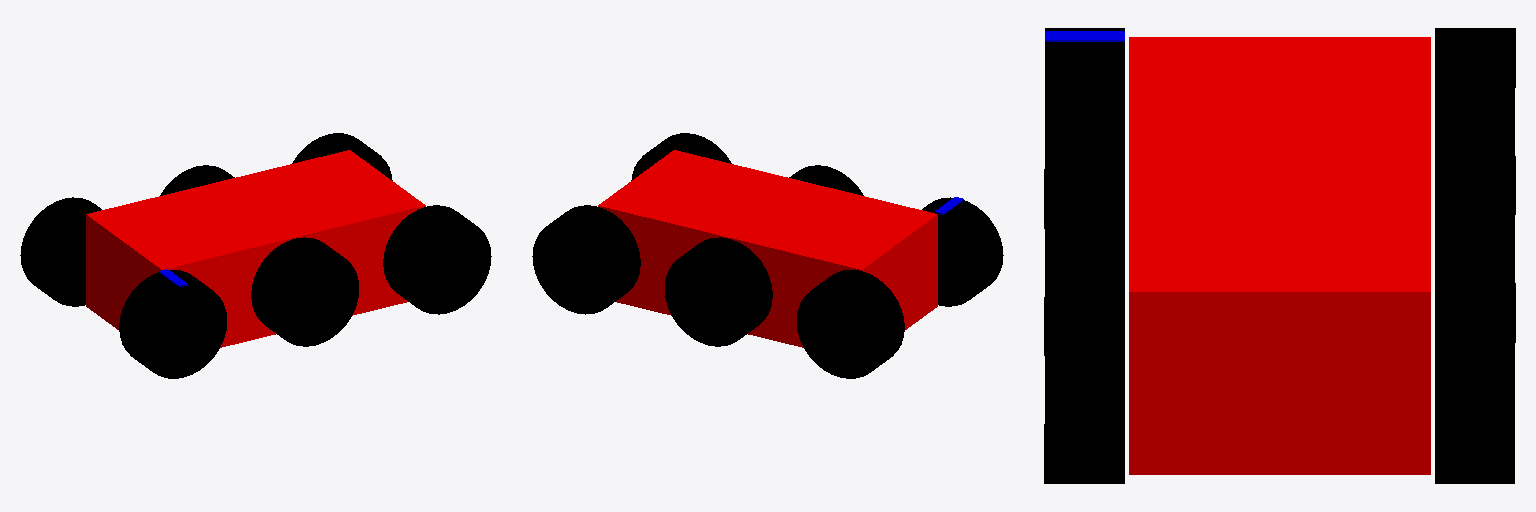
robot.urdf — my_robot2:
<robot name="my_robot2">
	<material name="red">
		<color rgba="1 0 0 1" />
	</material>
	<material name="black">
		<color rgba="0 0 0 1"/>
	</material>
	<material name="blue">
		<color rgba="0 0 1 0.7"/>
	</material>
	<link name="base_link">
		<visual>
			<geometry>
				<box size="1.5 0.75 0.5" />
			</geometry>
			<material name="red" />
		</visual>
	</link>
	<link name="wheel1">
		<visual>
			<geometry>
				<cylinder length="0.20" radius="0.25"/>
			</geometry>
			<material name="black"/>
		</visual>
	</link>
	<joint name="base_to_wheel1" type="continuous">
		<axis xyz="0 0 1"/>
		<origin rpy="1.57 0 0" xyz="-0.75 -0.485 0"/>
		<parent link="base_link"/>
		<child link="wheel1"/>
		<limit effort="100" velocity="100"/>
	</joint>
	<link name="strip">
		<visual>
			<geometry>
				<box size="0.2 0.05 0.01"/>
			</geometry>
			<origin rpy="1.57 1.57 0" xyz="0 0 0"/>
			<material name="blue"/>
		</visual>
	</link>
	<joint name="strip_to_wheel1" type="fixed">
		<parent link="wheel1"/>
		<child link="strip"/>
		<origin rpy="0 0 0" xyz="0 0.25 0"/>
	</joint>
	<link name="wheel2">
		<visual>
			<geometry>
				<cylinder length="0.20" radius="0.25"/>
			</geometry>
			<material name="black"/>
		</visual>
	</link>
	<joint name="base_to_wheel2" type="continuous">
		<axis xyz="0 0 1"/>
		<origin rpy="1.57 0 0" xyz="0 -0.485 0"/>
		<parent link="base_link"/>
		<child link="wheel2"/>
		<limit effort="100" velocity="100"/>
	</joint>
	<link name="wheel3">
		<visual>
			<geometry>
				<cylinder length="0.20" radius="0.25"/>
			</geometry>
			<material name="black"/>
		</visual>
	</link>
	<joint name="base_to_wheel3" type="continuous">
		<axis xyz="0 0 1"/>
		<origin rpy="1.57 0 0" xyz="0.75 -0.485 0"/>
		<parent link="base_link"/>
		<child link="wheel3"/>
		<limit effort="100" velocity="100"/>
	</joint>
	<link name="wheel4">
		<visual>
			<geometry>
				<cylinder length="0.20" radius="0.25"/>
			</geometry>
			<material name="black"/>
		</visual>
	</link>
	<joint name="base_to_wheel4" type="continuous">
		<axis xyz="0 0 1"/>
		<origin rpy="1.57 0 0" xyz="0.75 0.485 0"/>
		<parent link="base_link"/>
		<child link="wheel4"/>
		<limit effort="100" velocity="100"/>
	</joint>
	<link name="wheel5">
		<visual>
			<geometry>
				<cylinder length="0.20" radius="0.25"/>
			</geometry>
			<material name="black"/>
		</visual>
	</link>
	<joint name="base_to_wheel5" type="continuous">
		<axis xyz="0 0 1"/>
		<origin rpy="1.57 0 0" xyz="0 0.485 0"/>
		<parent link="base_link"/>
		<child link="wheel5"/>
		<limit effort="100" velocity="100"/>
	</joint>
	<link name="wheel6">
		<visual>
			<geometry>
				<cylinder length="0.20" radius="0.25"/>
			</geometry>
			<material name="black"/>
		</visual>
	</link>
	<joint name="base_to_wheel6" type="continuous">
		<axis xyz="0 0 1"/>
		<origin rpy="1.57 0 0" xyz="-0.75 0.485 0"/>
		<parent link="base_link"/>
		<child link="wheel6"/>
		<limit effort="100" velocity="100"/>
	</joint>
</robot>

--- Render facts (derived) ---
The picture shows the robot from 3 angles, left to right: view 1: azimuth 30°, elevation 25°; view 2: azimuth 150°, elevation 25°; view 3: azimuth 270°, elevation 25°; orthographic projection.
Model my_robot2 with 8 links and 7 joints (6 continuous, 1 fixed), rooted at base_link, posed all joints at 0.
Links seen in each view (by area): view 1: base_link, wheel3, wheel2, wheel1, wheel6, wheel4, wheel5; view 2: base_link, wheel4, wheel5, wheel6, wheel1, wheel3, wheel2; view 3: base_link, wheel3, wheel4, wheel2, wheel5, wheel6, wheel1, strip.
Boxes of the visible links, <box> form: base_link: <box>86,150,425,347</box>; wheel3: <box>383,205,491,314</box>; wheel2: <box>251,237,358,346</box>; wheel1: <box>119,270,226,378</box>; wheel6: <box>20,197,101,306</box>; wheel4: <box>292,133,392,180</box>; wheel5: <box>160,165,234,195</box>; base_link: <box>598,150,937,347</box>; wheel4: <box>532,205,640,314</box>; wheel5: <box>665,237,772,346</box>; wheel6: <box>797,270,904,378</box>; wheel1: <box>922,197,1003,306</box>; wheel3: <box>631,133,731,180</box>; wheel2: <box>789,165,863,195</box>; base_link: <box>1129,37,1430,474</box>; wheel3: <box>1044,283,1124,483</box>; wheel4: <box>1435,283,1515,483</box>; wheel2: <box>1044,155,1124,355</box>; wheel5: <box>1435,155,1515,282</box>; wheel6: <box>1435,28,1515,155</box>; wheel1: <box>1044,28,1124,228</box>; strip: <box>1045,31,1124,41</box>.
Size in the robot's own frame: 2 by 1.17 by 0.5052 metres.
Geometry: primitives only (box / cylinder / sphere), no mesh files.